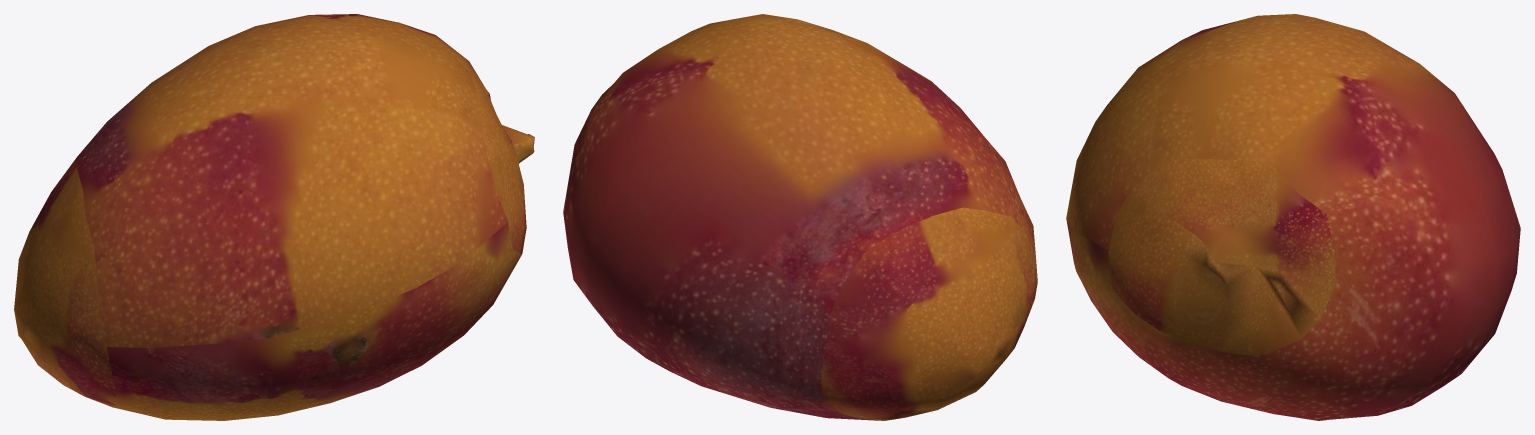
The picture shows the model from 3 angles, left to right: view 1: azimuth 30°, elevation 25°; view 2: azimuth 150°, elevation 25°; view 3: azimuth 270°, elevation 25°; orthographic projection. The views are drawn at different scales.
Bounding box in the file's own units: 1 × 0.7501 × 0.836.
